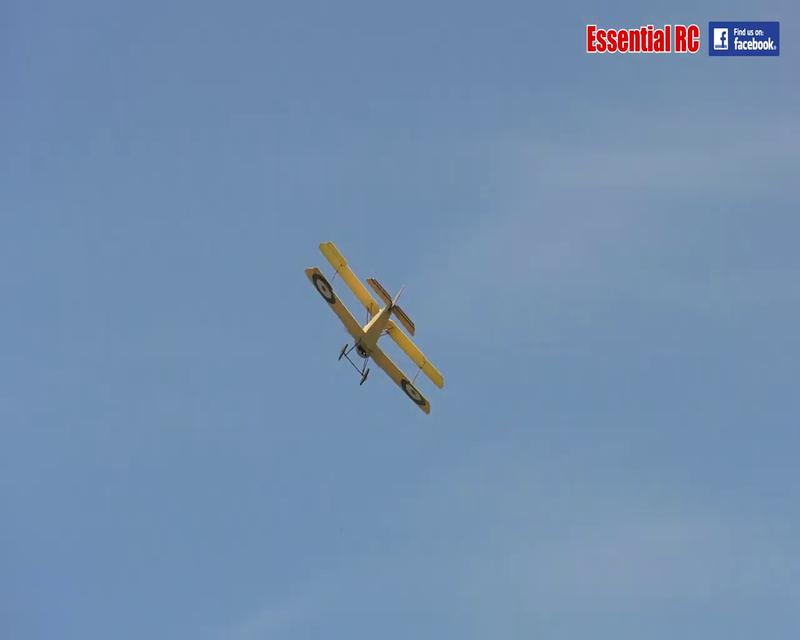UAV: (304, 239, 445, 415)
